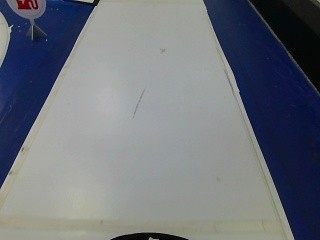battery: (0, 0, 48, 19)
